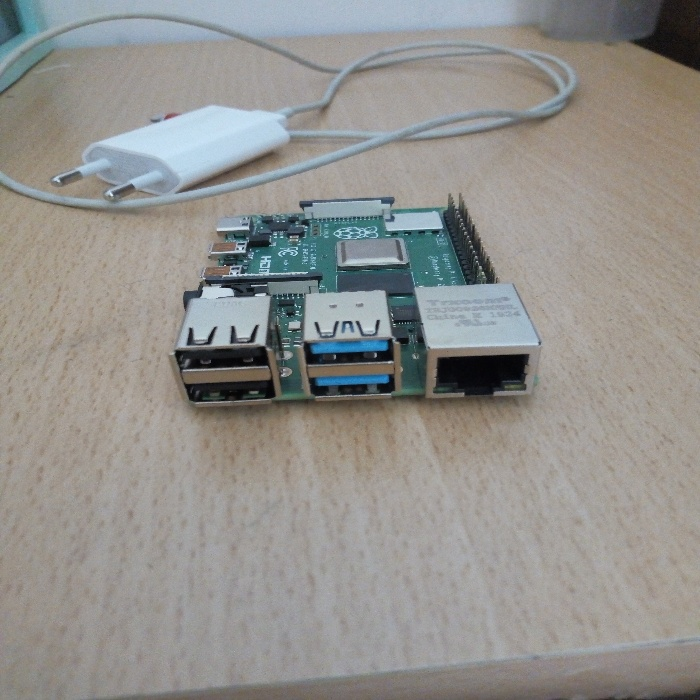raspberry: (181, 188, 545, 419)
